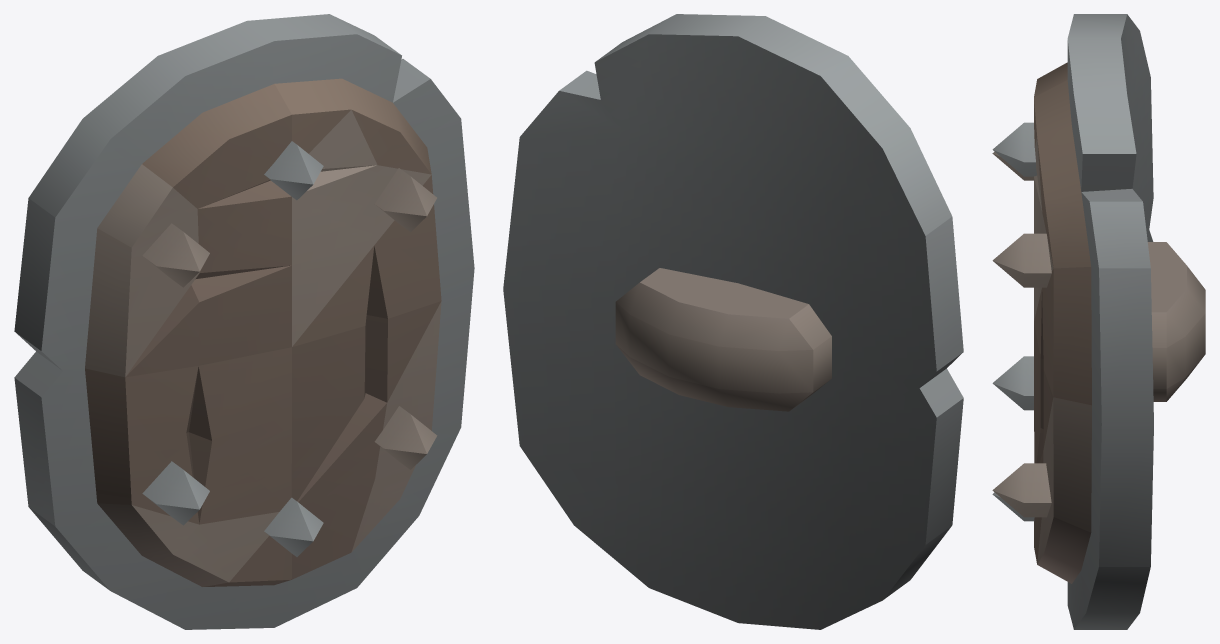
Rendered from Skeleton_Shield_Large_B.glb.
3 renders of one model, left to right at view 1: azimuth 30°, elevation 25°; view 2: azimuth 150°, elevation 25°; view 3: azimuth 270°, elevation 25°, orthographic. The views are drawn at different scales.
Parts seen in each view (by area): view 1: Skeleton_Shield_Large_B; view 2: Skeleton_Shield_Large_B; view 3: Skeleton_Shield_Large_B.
Part boxes in pixels (<box>): Skeleton_Shield_Large_B: <box>14,14,474,629</box>; Skeleton_Shield_Large_B: <box>503,14,963,629</box>; Skeleton_Shield_Large_B: <box>992,14,1205,629</box>.
Bounding box in the file's own units: 0.8771 × 1.13 × 0.387.
1 material, 1 textured.
